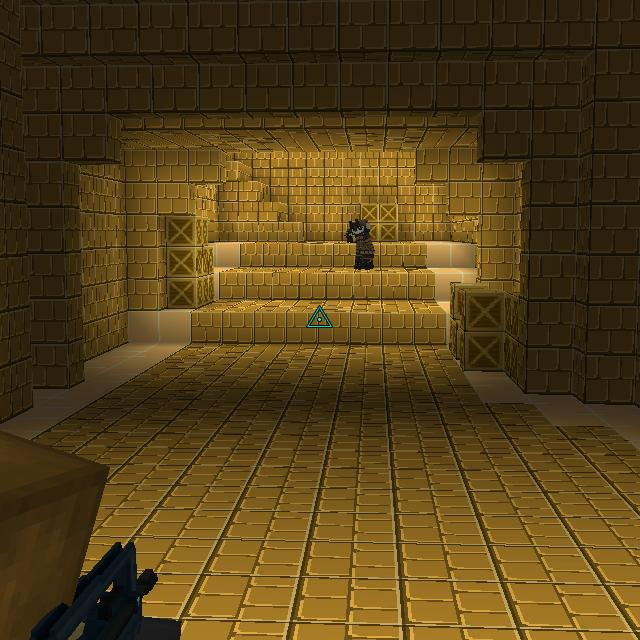enemy: (345, 213, 374, 272)
